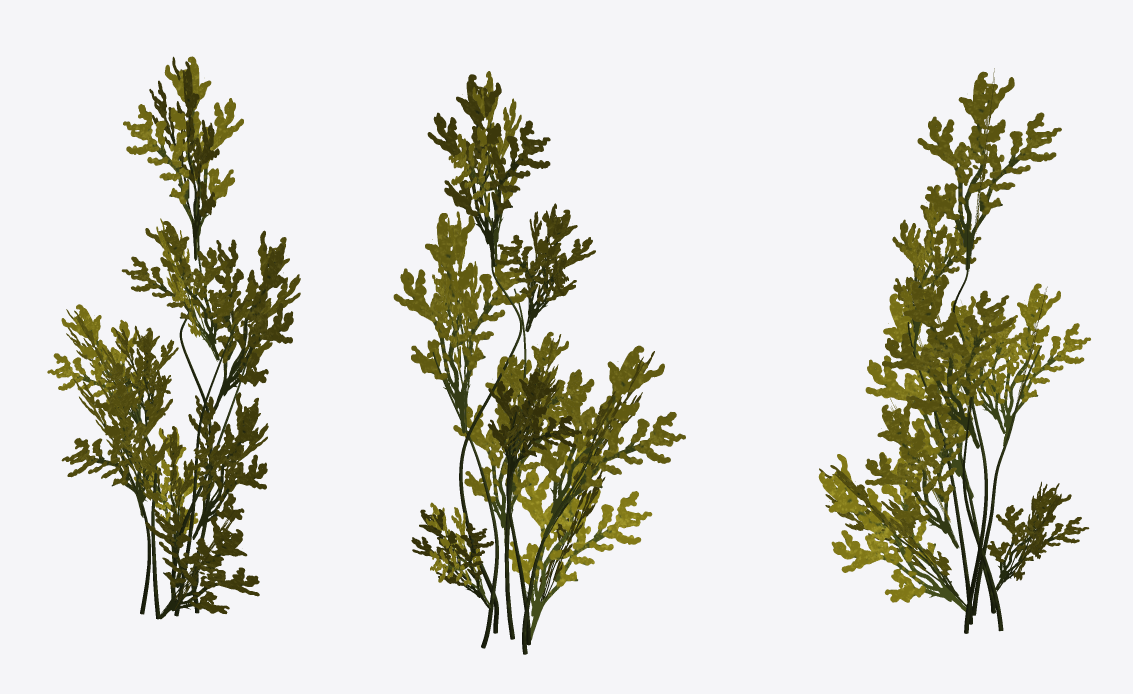
Rendered from SM_Bush.fbx.
The picture shows the model from 3 angles, left to right: view 1: azimuth 30°, elevation 25°; view 2: azimuth 150°, elevation 25°; view 3: azimuth 270°, elevation 25°; orthographic projection. The views are drawn at different scales.
Visible parts, largest first — view 1: SM_Bush; view 2: SM_Bush; view 3: SM_Bush.
Part boxes in pixels (bbox=[...]): SM_Bush: bbox=[47, 56, 300, 619]; SM_Bush: bbox=[393, 71, 685, 654]; SM_Bush: bbox=[818, 68, 1090, 633].
Bounding box in the file's own units: 132 × 241 × 123.
